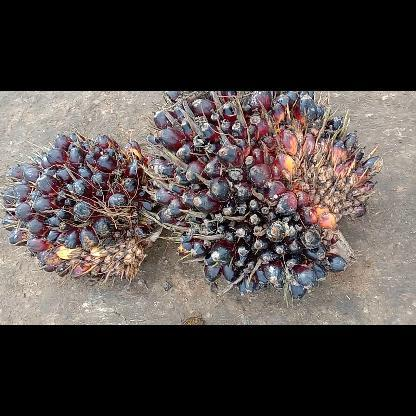TBS mentah: (145, 91, 381, 301), (2, 135, 158, 279)
